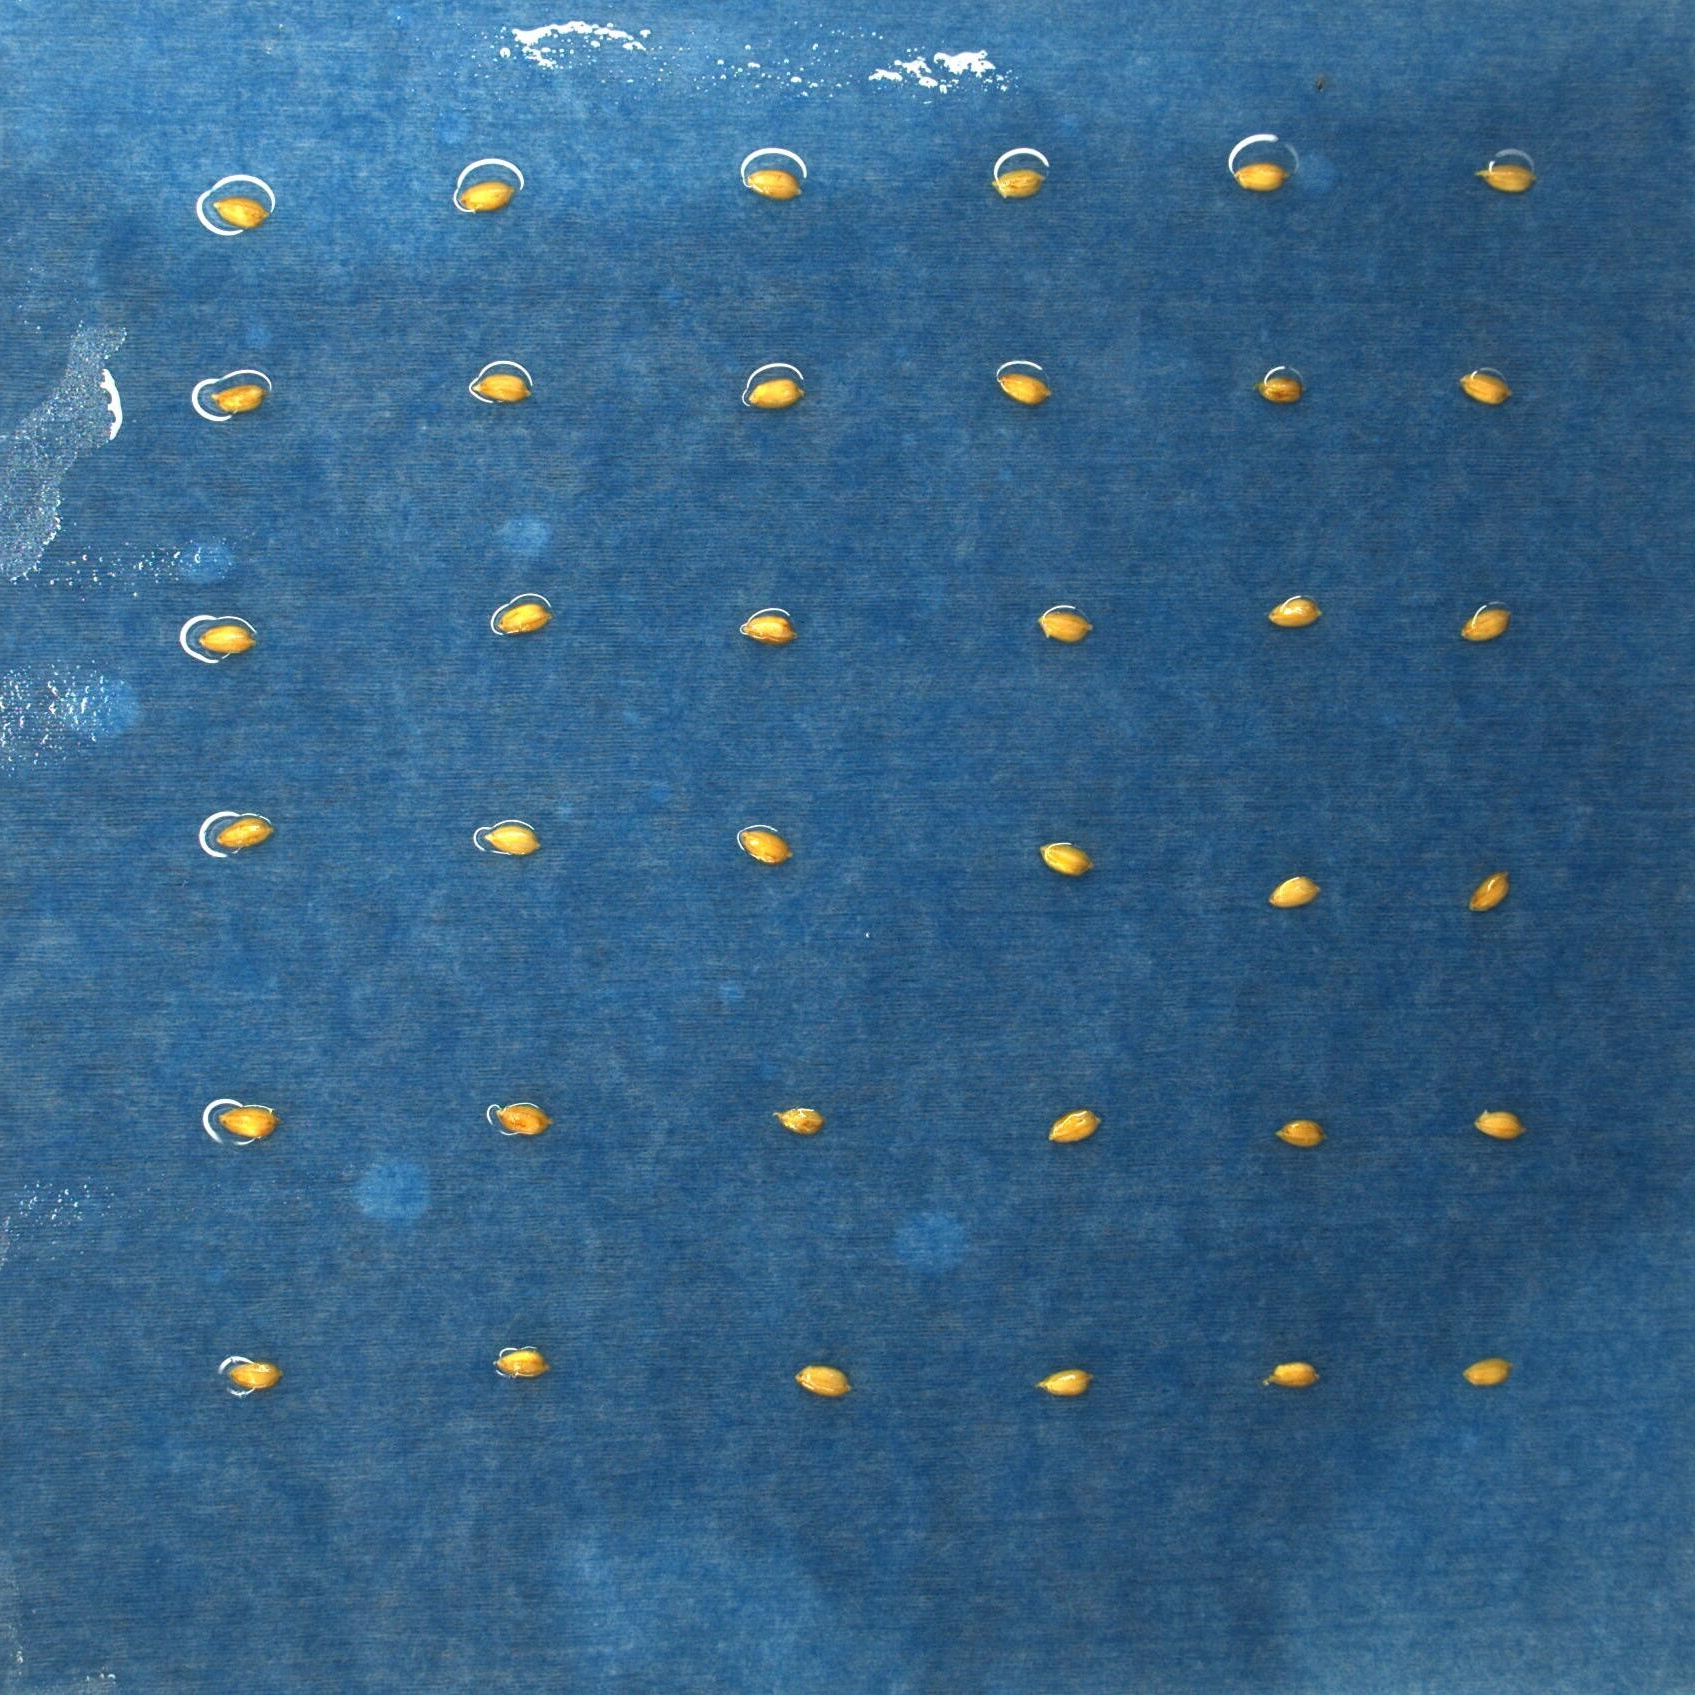not sprout: (1479, 158, 1544, 196), (480, 820, 542, 858), (793, 1357, 855, 1395), (472, 371, 539, 407), (213, 1105, 279, 1139), (736, 827, 795, 865), (1035, 605, 1093, 643), (742, 605, 795, 646), (194, 619, 256, 653), (1035, 840, 1094, 875), (1251, 369, 1305, 407), (995, 369, 1049, 407), (1035, 1364, 1094, 1399), (500, 601, 556, 636), (1461, 602, 1513, 640), (1270, 872, 1322, 910), (1045, 1107, 1104, 1139), (1263, 596, 1319, 630), (1475, 1107, 1527, 1142), (768, 1101, 826, 1133), (206, 200, 269, 230), (224, 1361, 286, 1391), (490, 1104, 556, 1132), (747, 171, 807, 199), (1468, 872, 1510, 913), (1237, 161, 1291, 192), (1462, 371, 1513, 404), (459, 179, 515, 208), (216, 820, 272, 849), (1273, 1121, 1330, 1149), (1268, 1355, 1322, 1385), (494, 1350, 554, 1377), (993, 171, 1048, 199), (750, 376, 804, 404), (213, 380, 261, 411), (1464, 1358, 1510, 1388)
